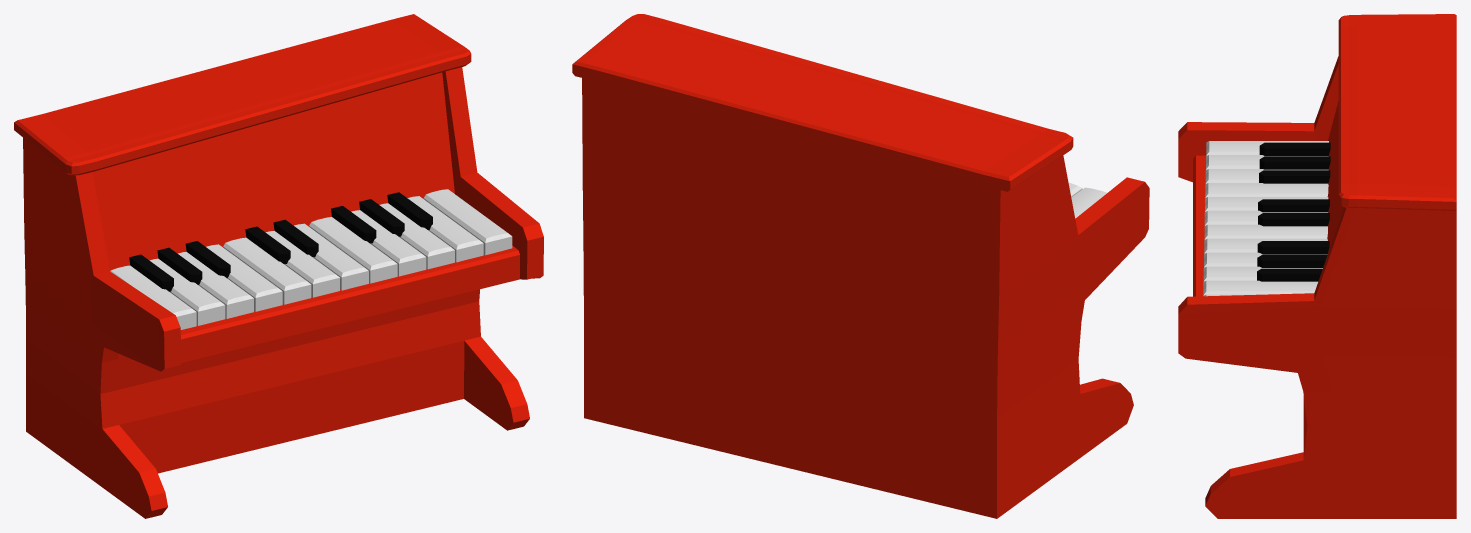
File: Piano_Jouet.fbx
3 renders of one model, left to right at view 1: azimuth 30°, elevation 25°; view 2: azimuth 150°, elevation 25°; view 3: azimuth 270°, elevation 25°, orthographic. The views are drawn at different scales.
Parts seen in each view (by area): view 1: Piano_jouet; view 2: Piano_jouet; view 3: Piano_jouet.
Part boxes in pixels (x1,y1,x2,y2): Piano_jouet: (14,14,543,518); Piano_jouet: (572,14,1149,518); Piano_jouet: (1178,14,1456,518).
Bounding box in the file's own units: 34.18 × 26.46 × 20.33.
